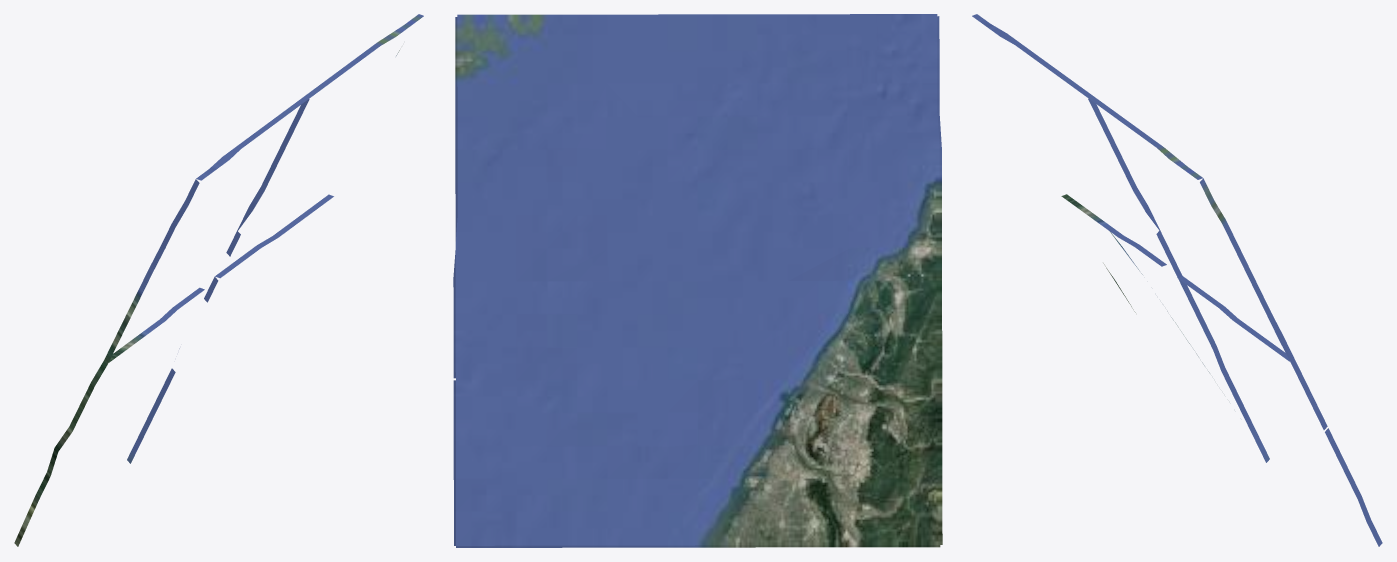
3 views of the same model, side by side, from view 1: azimuth 30°, elevation 25°; view 2: azimuth 150°, elevation 25°; view 3: azimuth 270°, elevation 25° (orthographic). The views are drawn at different scales.
Bounding box in the file's own units: 157819 × 143947 × 129985.
Materials: 1 (1 with a texture image).
